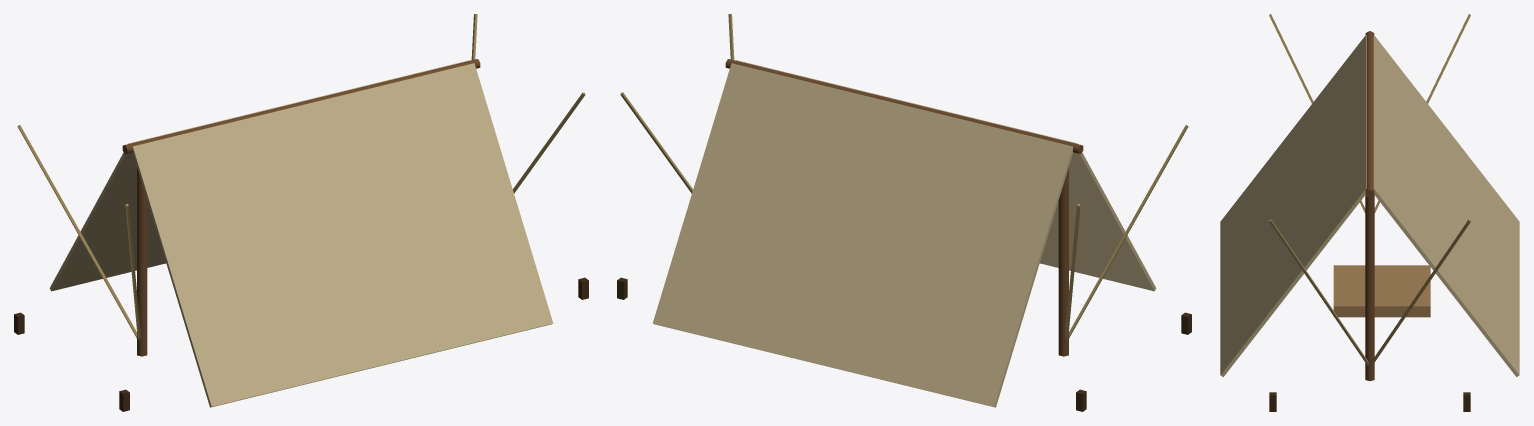
Rendered from mv_tarp_tent.glb.
3 views of the same model, side by side, from view 1: azimuth 30°, elevation 25°; view 2: azimuth 150°, elevation 25°; view 3: azimuth 270°, elevation 25° (orthographic). The views are drawn at different scales.
Parts seen in each view (by area): view 1: mv_tarp_tent; view 2: mv_tarp_tent; view 3: mv_tarp_tent.
Boxes of the visible parts, box(x1,y1,x2,y2) form: mv_tarp_tent: box(14, 14, 588, 411); mv_tarp_tent: box(617, 14, 1191, 411); mv_tarp_tent: box(1220, 14, 1519, 411).
Size of the model in its own units: 4.23 by 1.85 by 2.55.
